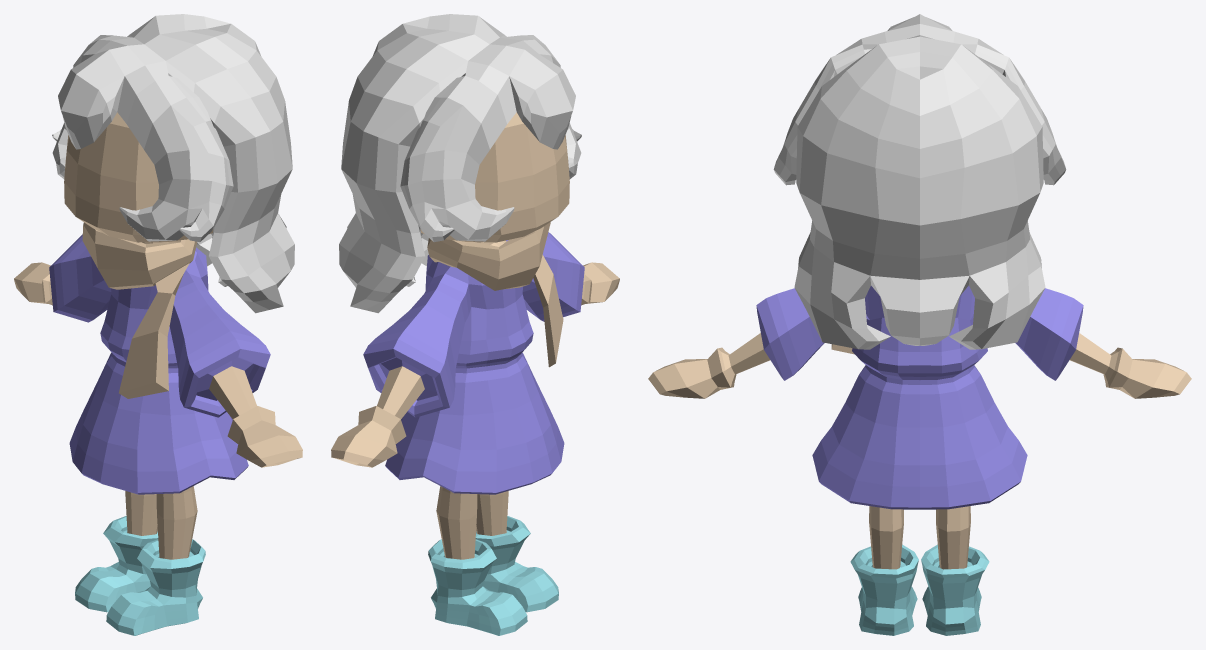
Rendered from Sheepgirl_Test1.fbx.
3 renders of one model, left to right at view 1: azimuth 30°, elevation 25°; view 2: azimuth 150°, elevation 25°; view 3: azimuth 270°, elevation 25°, orthographic. The views are drawn at different scales.
Parts seen in each view (by area): view 1: Cube.001; view 2: Cube.001; view 3: Cube.001.
Boxes of the visible parts, <box> form: Cube.001: <box>14,14,302,635</box>; Cube.001: <box>331,14,619,635</box>; Cube.001: <box>648,14,1191,635</box>.
Bounding box in the file's own units: 315 × 781 × 652.
